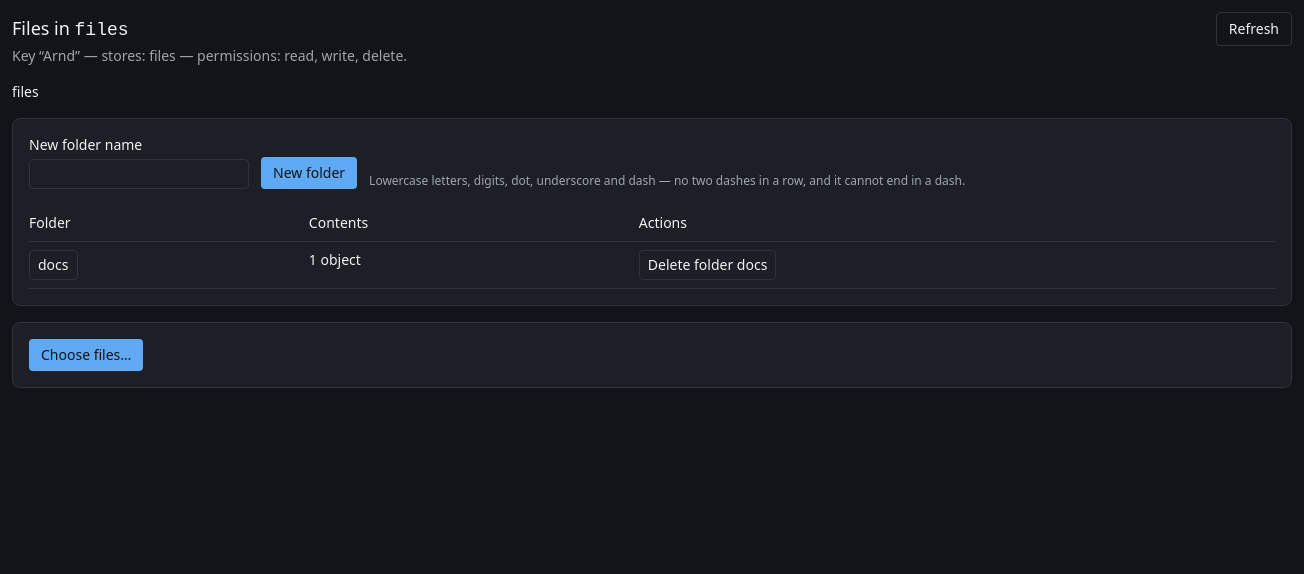
the same file name in two different folders is NOT a collision, but the same name in the SAME folder is
Click the button "Choose files…".
click(86, 355)  # box x1=29 y1=339 x2=143 y2=371
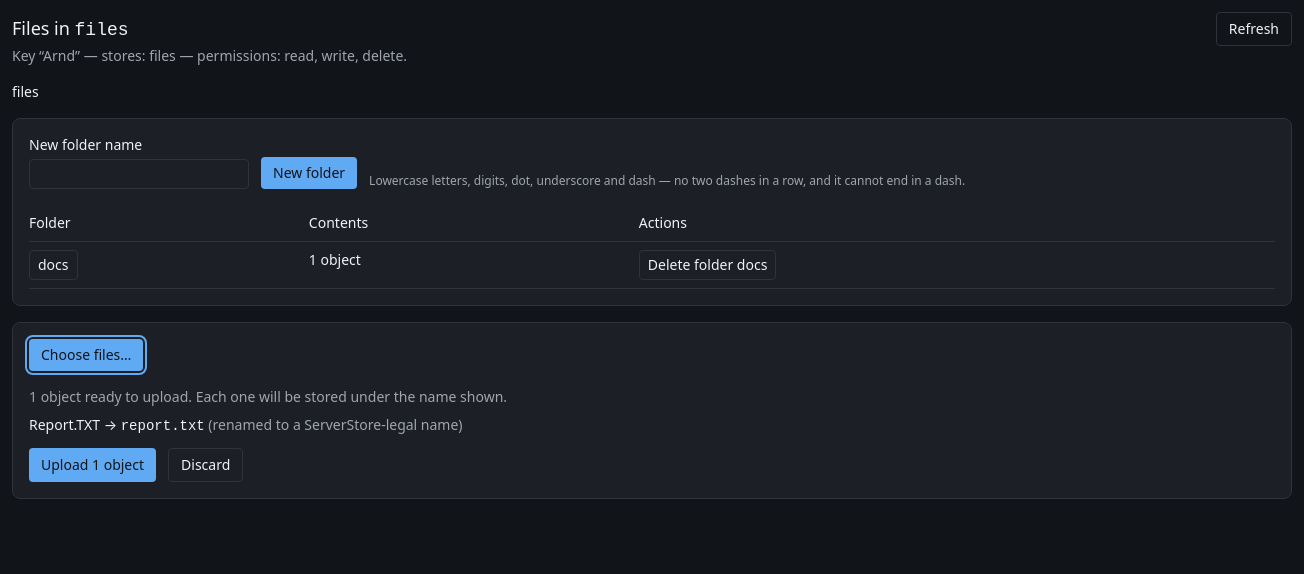
Expected: the text "report.txt" is shown, x1=121 y1=418 x2=205 y2=434
Click the button "docs".
click(53, 265)  # box x1=29 y1=250 x2=78 y2=280
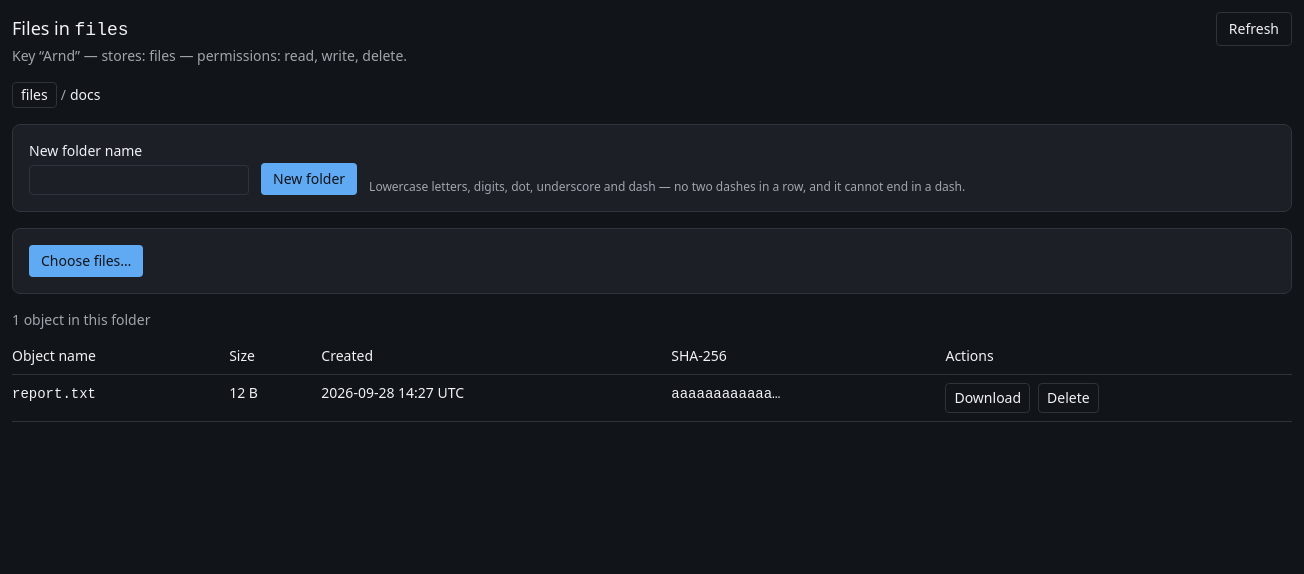
Click the button "Choose files…".
click(86, 261)  # box x1=29 y1=245 x2=143 y2=277
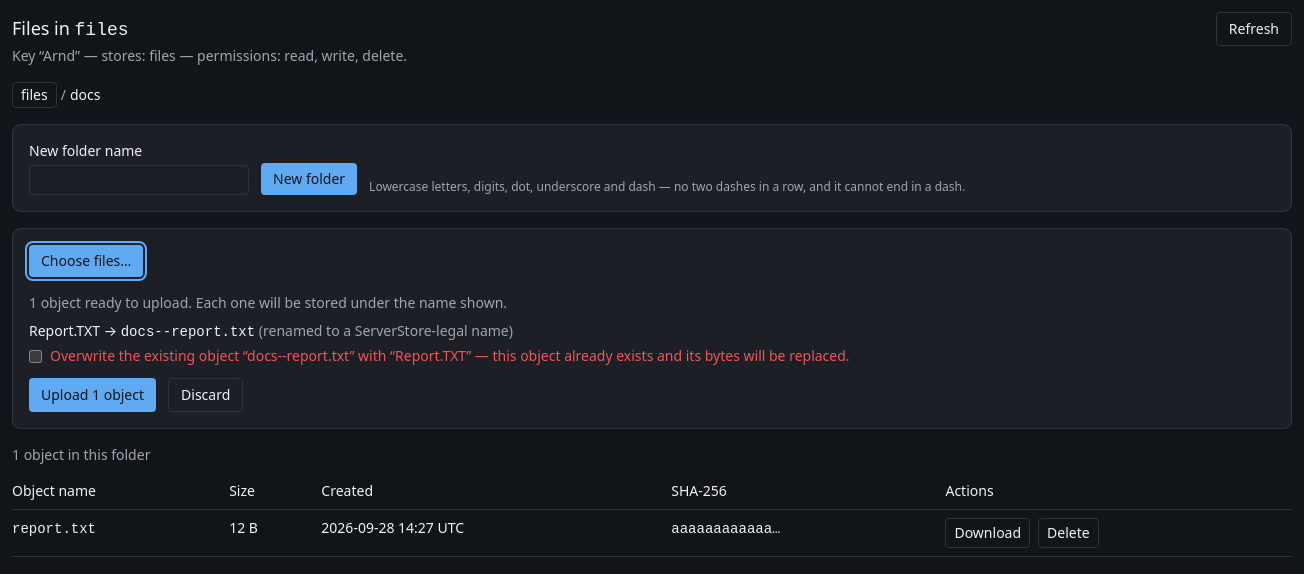
Expected: the 2nd label is shown, x1=29 y1=346 x2=850 y2=365
Expected: the 2nd label shows "docs--report.txt", x1=50 y1=346 x2=471 y2=365
Expected: the 2nd label shows "report.txt", x1=50 y1=346 x2=471 y2=365
